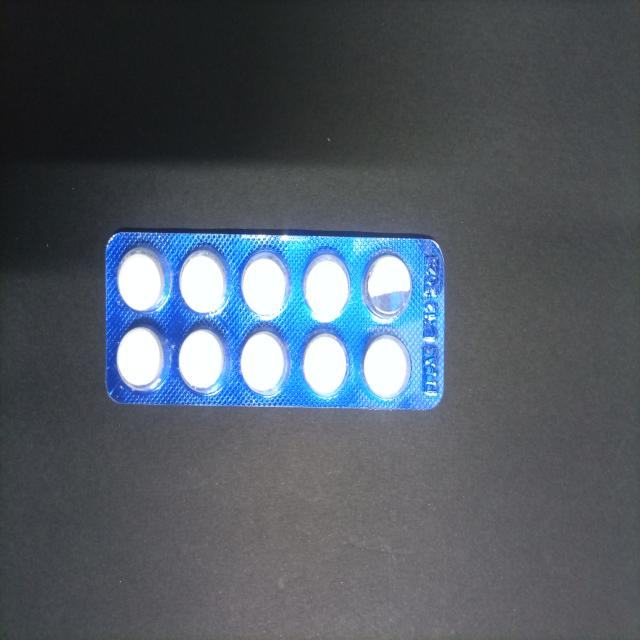defect: (360, 251, 414, 323)
